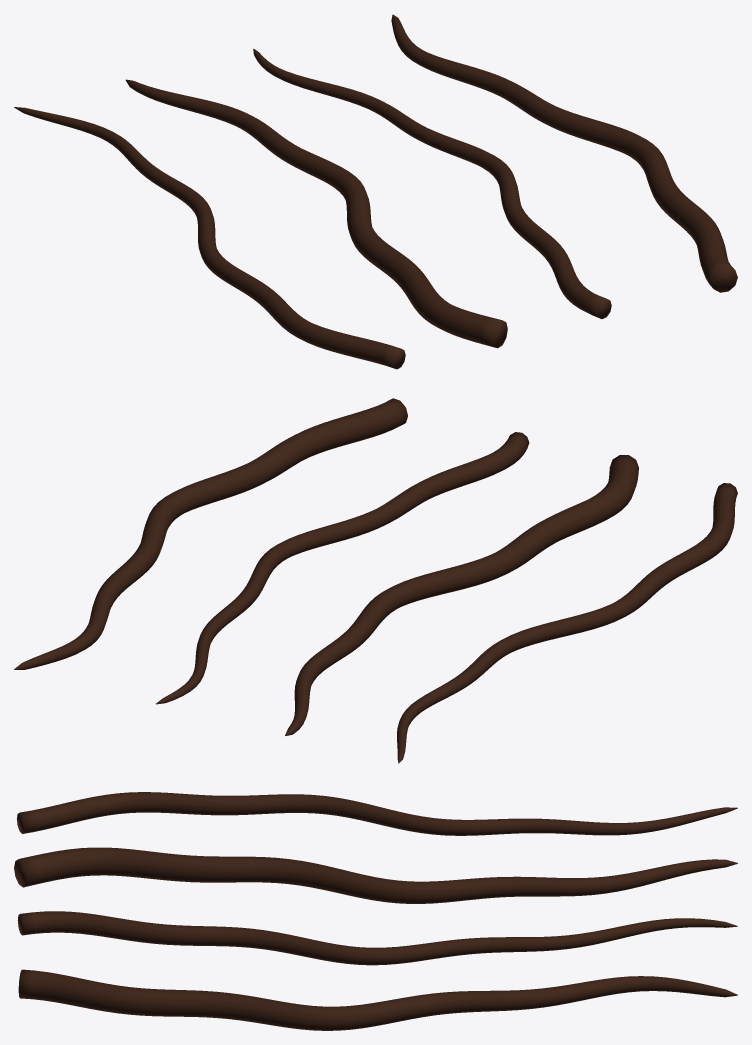
Rendered from sweet-drizzle-flat.glb.
3 views of the same model, one above another, from view 1: azimuth 30°, elevation 25°; view 2: azimuth 150°, elevation 25°; view 3: azimuth 270°, elevation 25° (orthographic).
Visible parts, largest first — view 1: Chocolate finishing drizzle.001, Chocolate finishing drizzle.003, Chocolate finishing drizzle, Chocolate finishing drizzle.002; view 2: Chocolate finishing drizzle.003, Chocolate finishing drizzle.001, Chocolate finishing drizzle.002, Chocolate finishing drizzle; view 3: Chocolate finishing drizzle.001, Chocolate finishing drizzle.003, Chocolate finishing drizzle, Chocolate finishing drizzle.002.
Part boxes in pixels (x1,y1,x2,y2): Chocolate finishing drizzle.001: [125, 79, 507, 348]; Chocolate finishing drizzle.003: [391, 14, 737, 292]; Chocolate finishing drizzle: [14, 107, 405, 369]; Chocolate finishing drizzle.002: [253, 48, 611, 318]; Chocolate finishing drizzle.003: [14, 398, 407, 669]; Chocolate finishing drizzle.001: [285, 455, 638, 735]; Chocolate finishing drizzle.002: [156, 432, 529, 704]; Chocolate finishing drizzle: [397, 483, 737, 763]; Chocolate finishing drizzle.001: [14, 847, 737, 903]; Chocolate finishing drizzle.003: [18, 969, 737, 1030]; Chocolate finishing drizzle: [17, 792, 737, 835]; Chocolate finishing drizzle.002: [17, 911, 737, 965].
Size of the model in its own units: 0.7311 by 0.038 by 0.9897.
